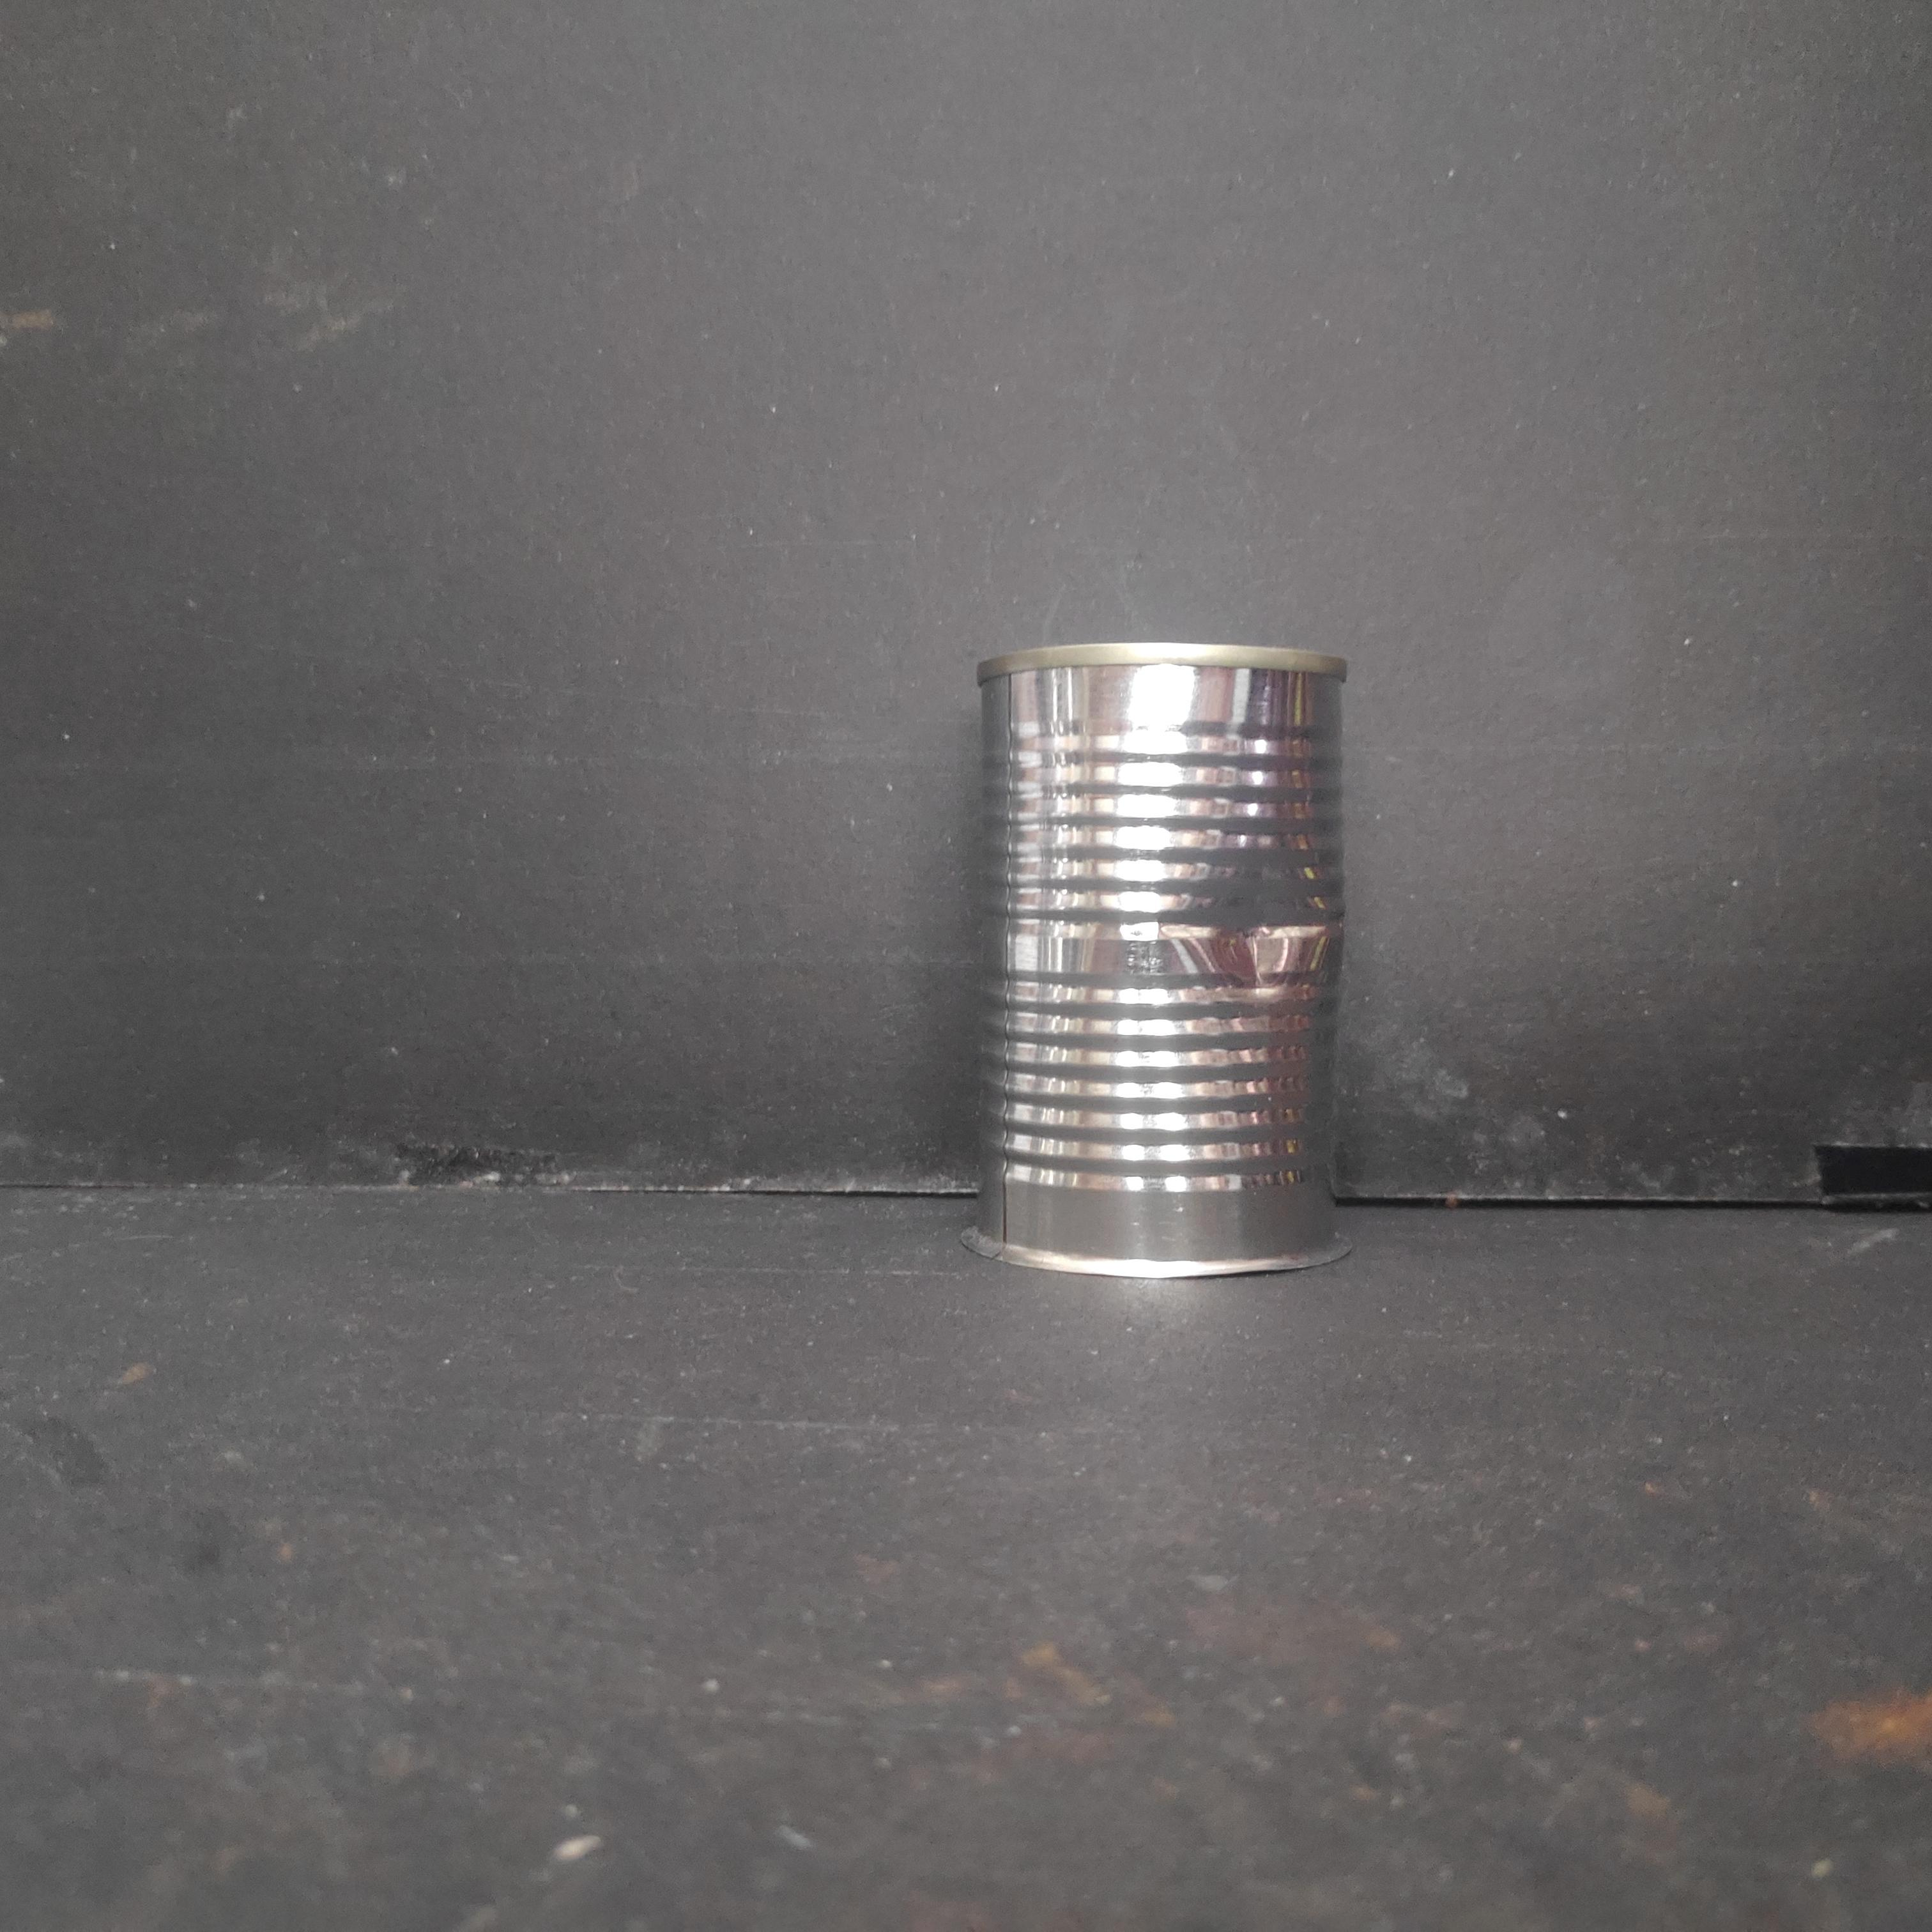Minor Defect: (962, 630, 1361, 1292)
